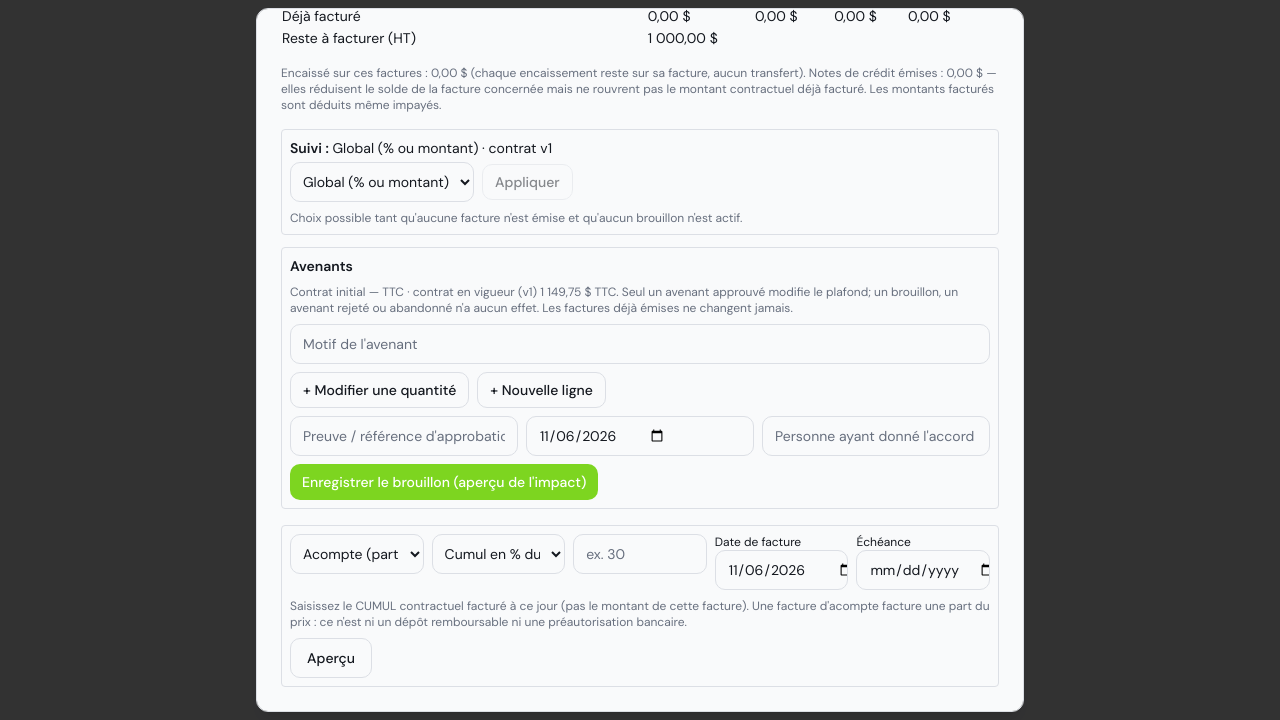
it: FIN-09B1 — aperçu et émission › saisie invalide : aucun appel serveur; erreur réseau d'aperçu affichée
(page scrolled)
Step 1. Type "abc" into the field named "Cumul contractuel" → x=640, y=554, box [573,534,707,574]
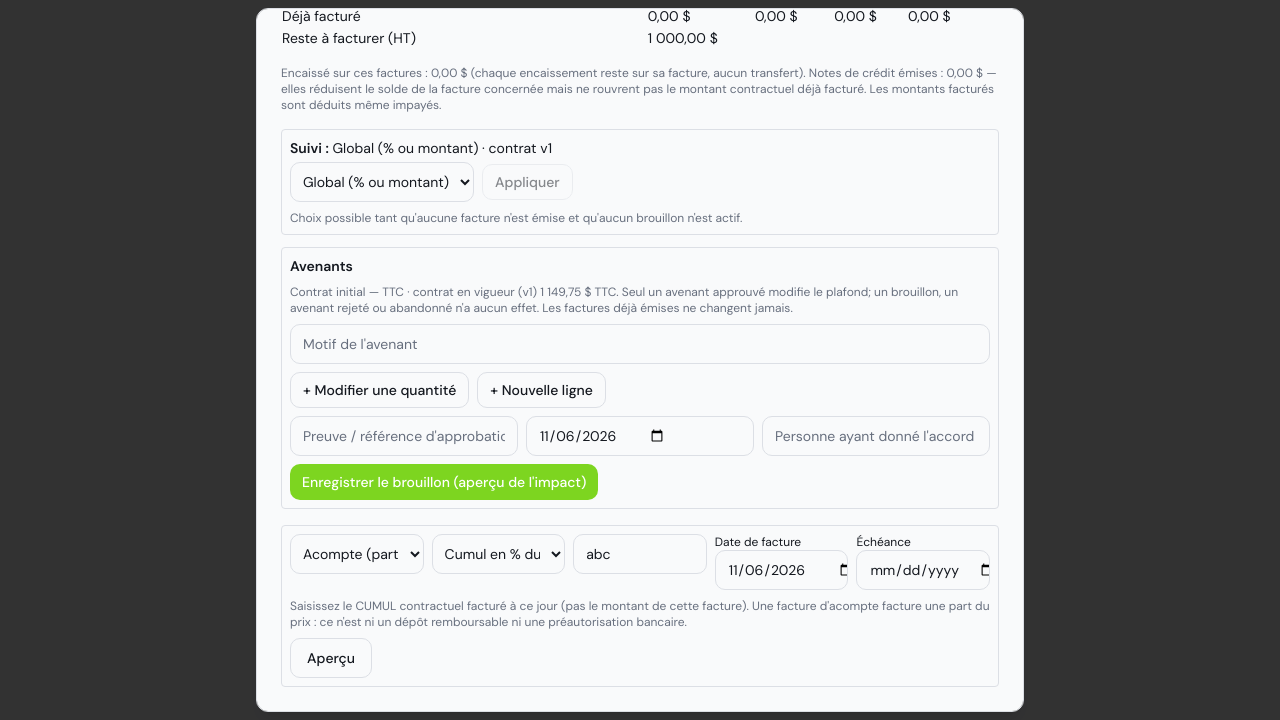
Step 2. Click the button "Aperçu" → x=331, y=658, box [290,638,372,678]
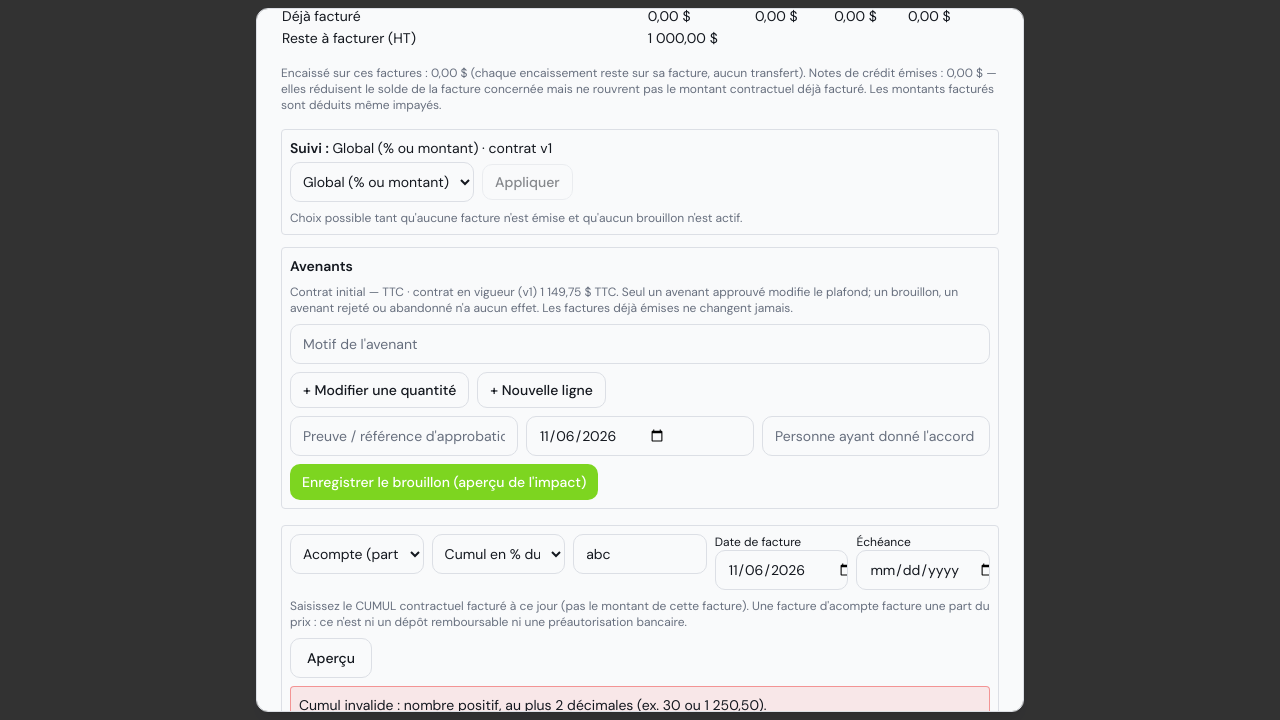
Result: the text "Cumul invalide : nombre positif, au plus 2 décimales (ex. 30 ou 1 250,50)." is shown at [290,686,990,712]
Step 3. Replace the text in the field named "Cumul contractuel" with "30" → x=640, y=554, box [573,534,707,574]
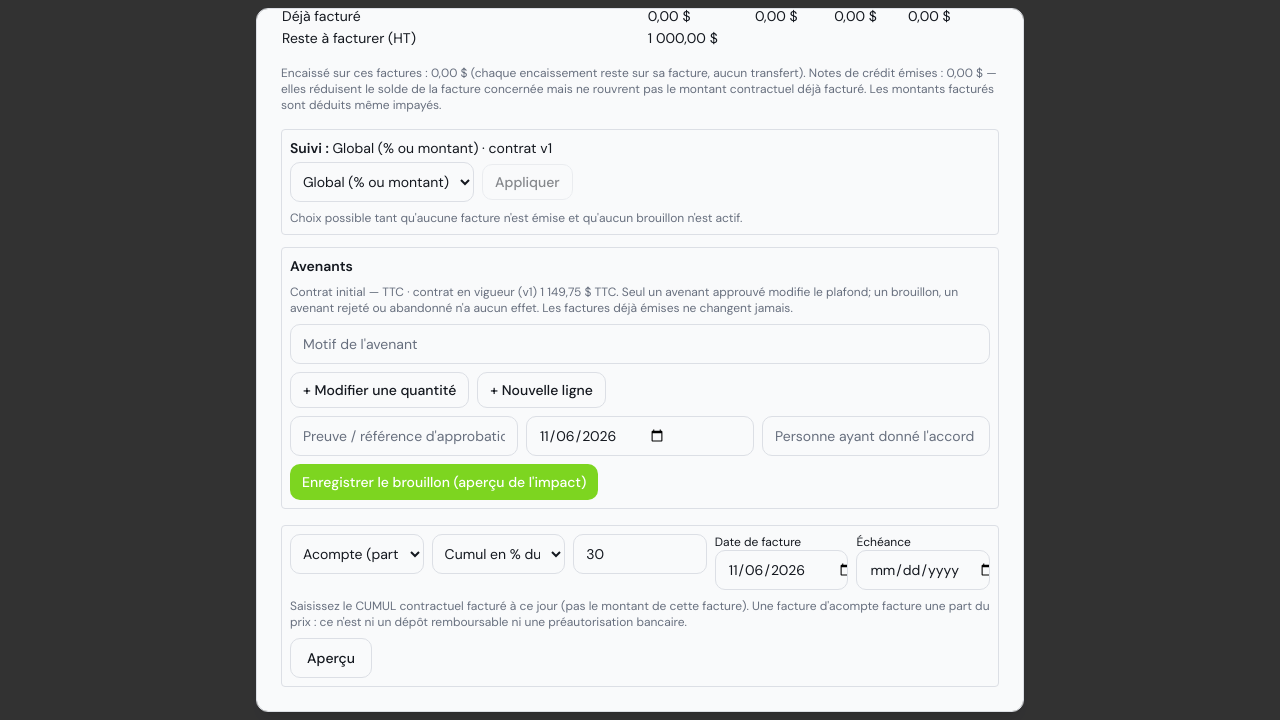
Step 4. Click the button "Aperçu" → x=331, y=658, box [290,638,372,678]
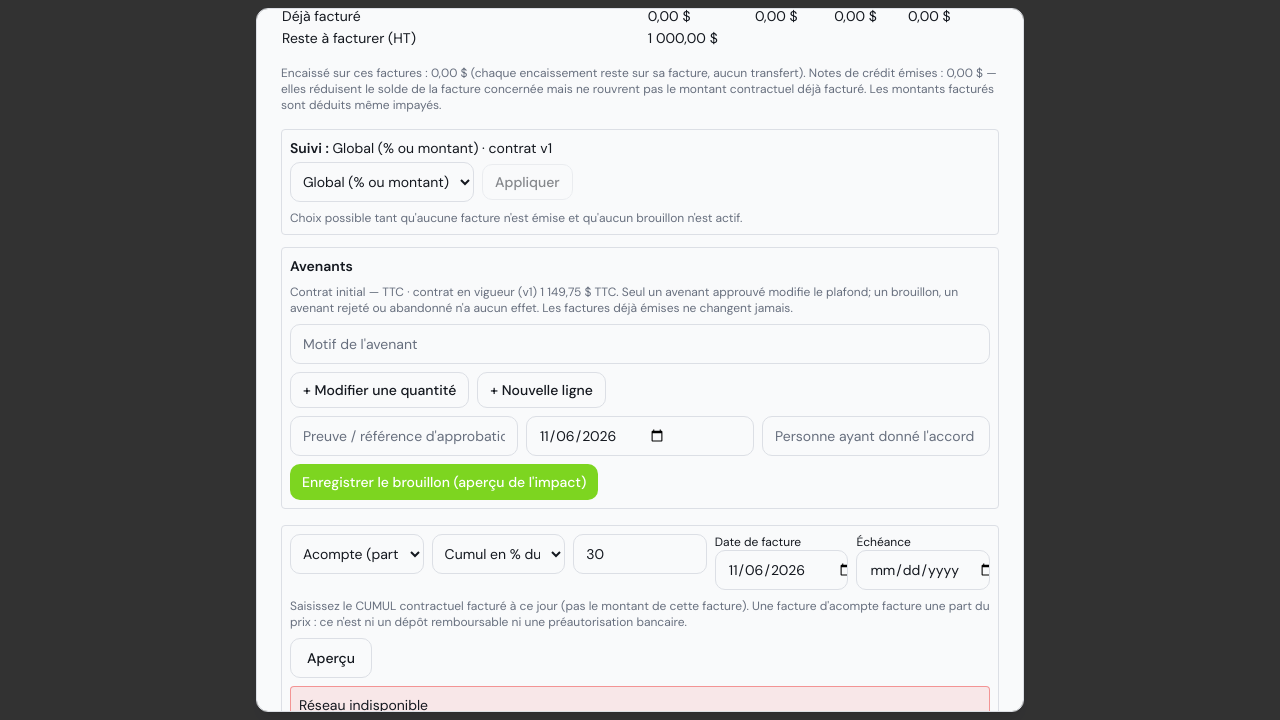
Result: the text "Réseau indisponible" is shown at [290,686,990,712]
